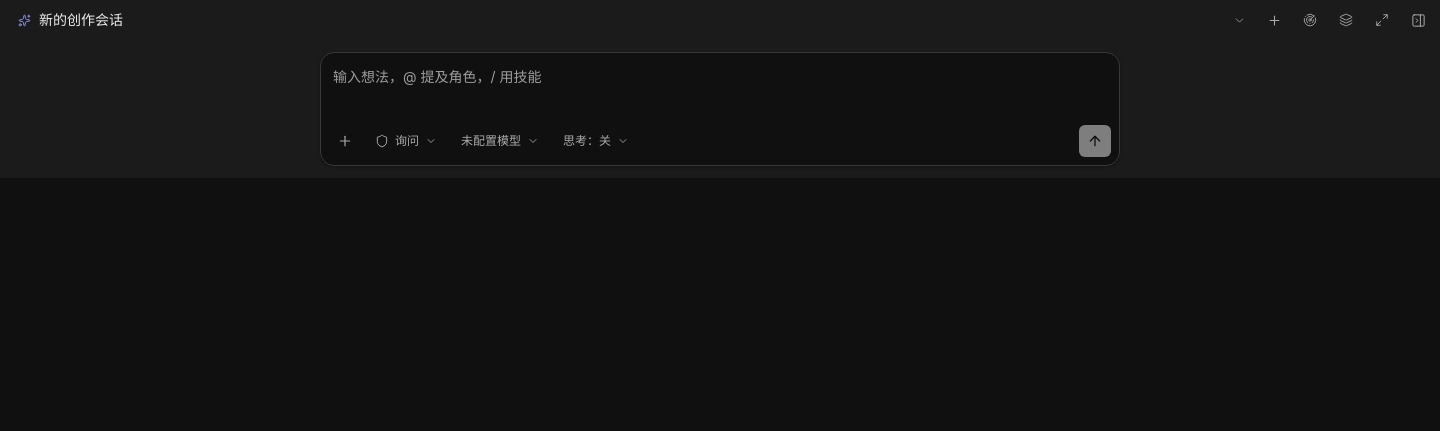
真实上下文预算与文件可按需查看，默认不挂空参考卡
The image size is (1440, 431).
Click the button named "添加上下文" at (345, 141), box [329,125,361,157]
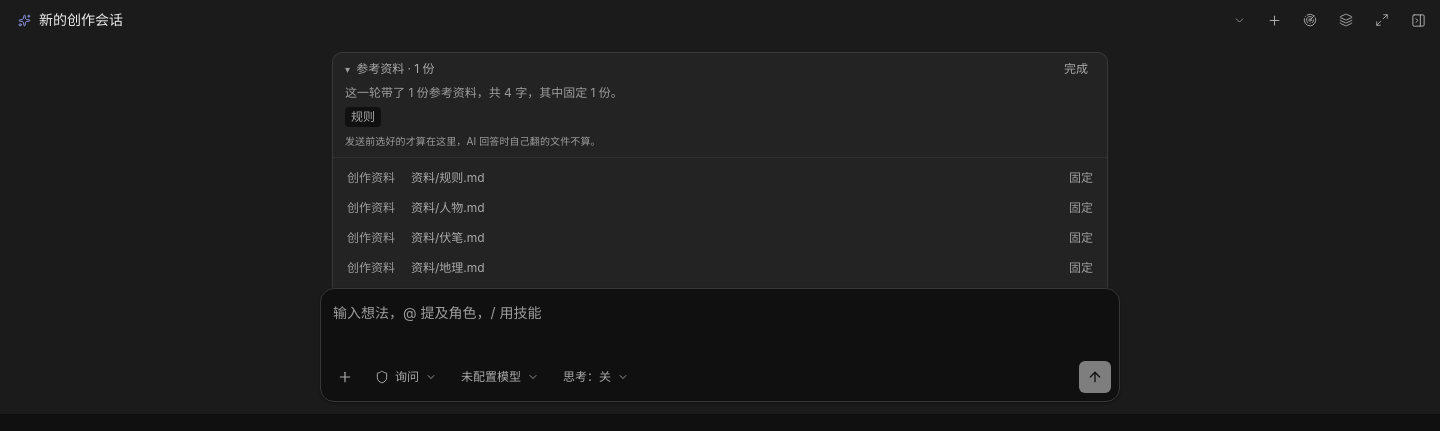
Result: the element with test id "context-summary" shows "这一轮带了 1 份参考资料" at [345,85,623,100]
Result: the list item titled "资料/规则.md" is shown at [351,109,375,124]
Result: the element with test id "context-summary" shows "资料/规则.md" at [339,164,1101,192]
